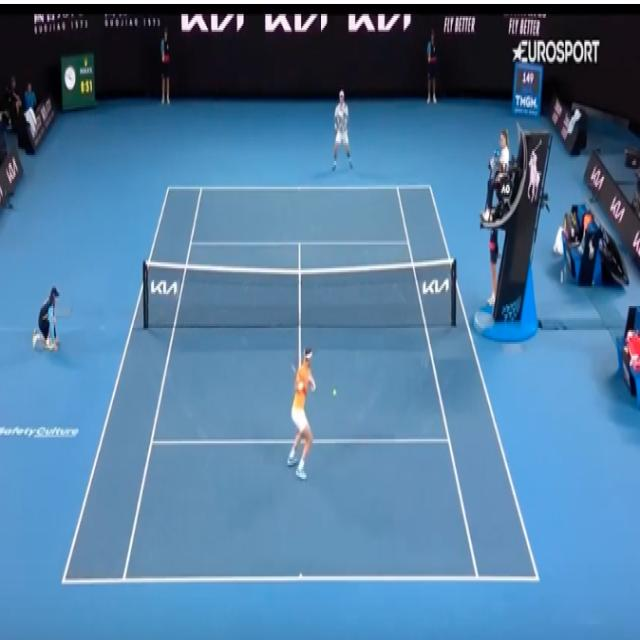ball: (332, 388, 337, 397)
